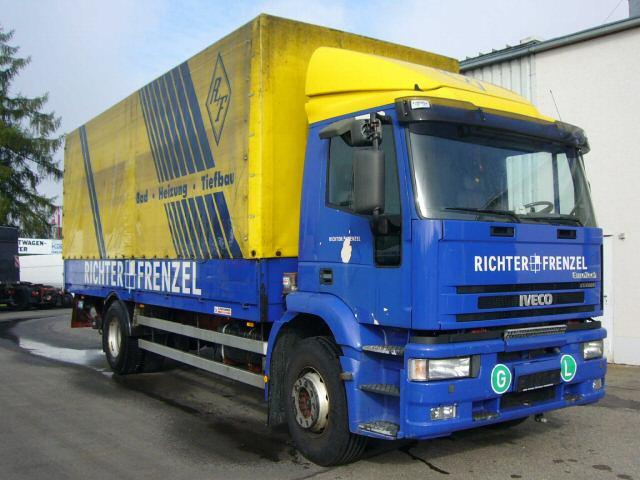truck: (62, 13, 609, 468)
